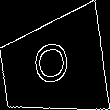O_W: (31, 40, 75, 92)
